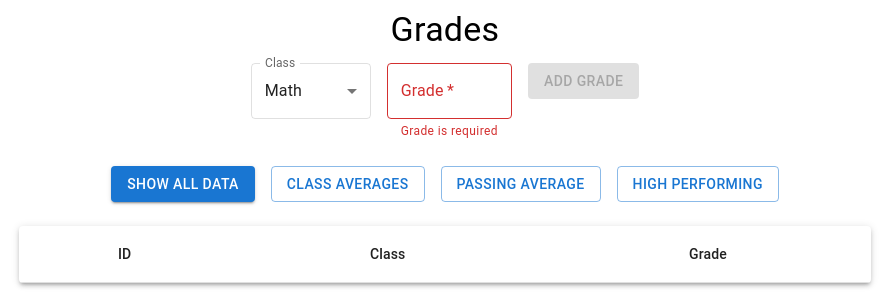
it: GradesPage › validates out-of-range grades
The image size is (891, 305).
Type "-5" into the number field labelled "Grade *" at [449, 91], box [387,63,512,119]
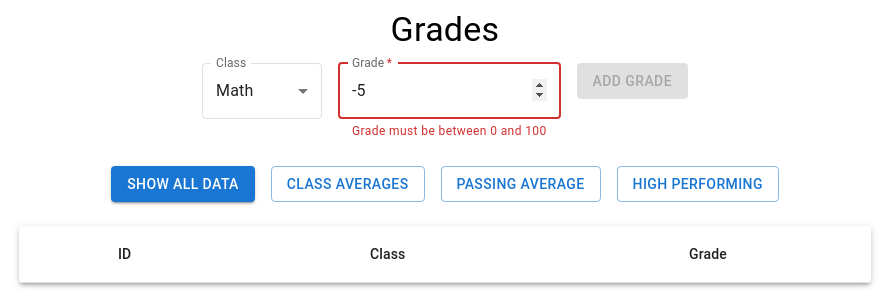
Expected: the button "Add Grade" is disabled, [577,63,688,99]
Result: the text "Grade must be between 0 and 100" is shown at [352,122,547,142]
Above 100
Clear the number field labelled "Grade *" at [449, 91], box [338,63,561,119]
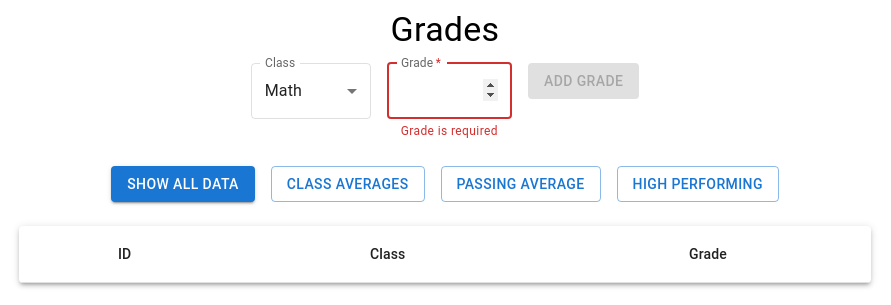
Type "150" into the number field labelled "Grade *" at [449, 91], box [387,63,512,119]
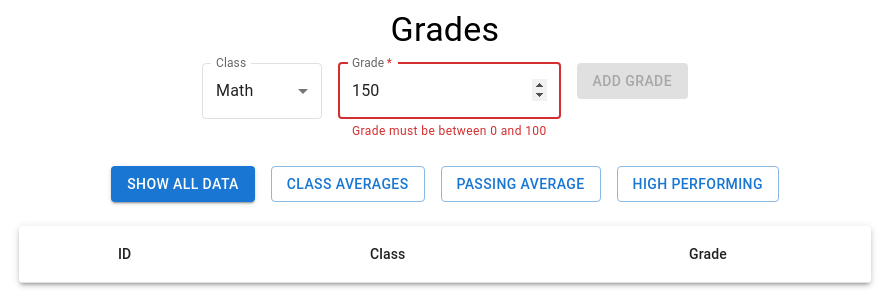
Expected: the button "Add Grade" is disabled, [577,63,688,99]
Result: the text "Grade must be between 0 and 100" is shown at [352,122,547,142]
